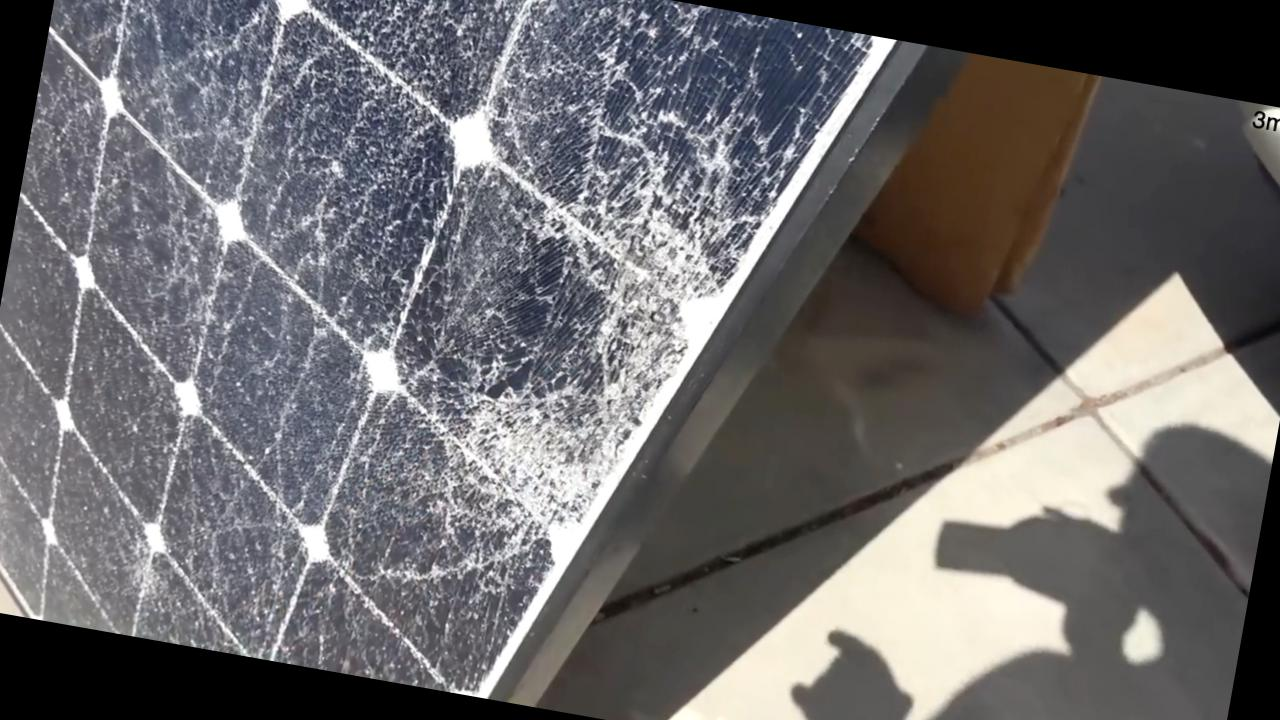Crack: (370, 68, 758, 594)
